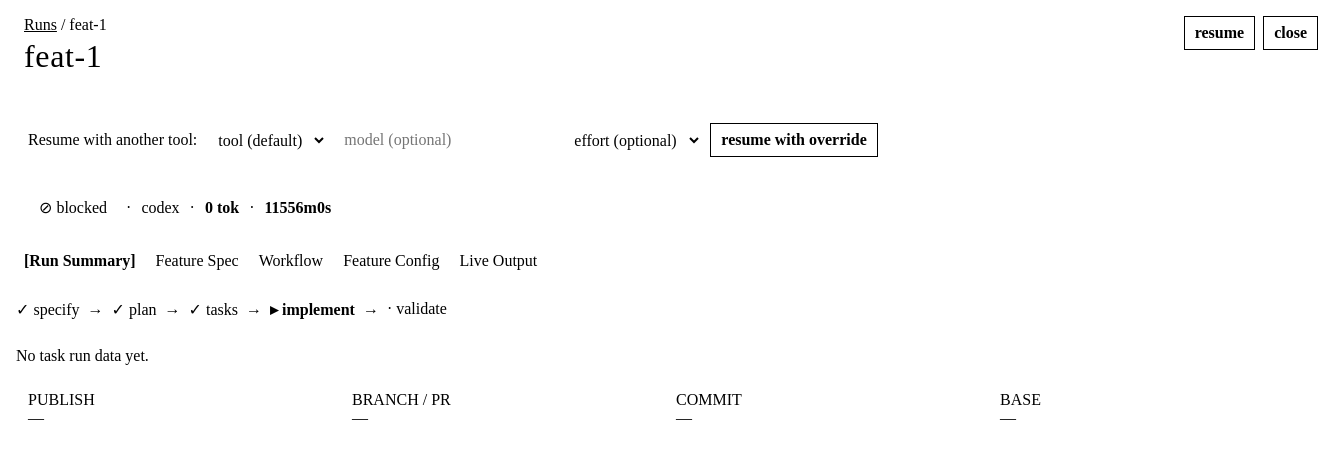
Test case: RunDetailPage error output › detects error lines from raw stderr log text even when no `level` was persisted
This screenshot has width=1335, height=459.
Step 1. Click the button "Live Output" → click(498, 261), box x1=452 y1=246 x2=545 y2=276
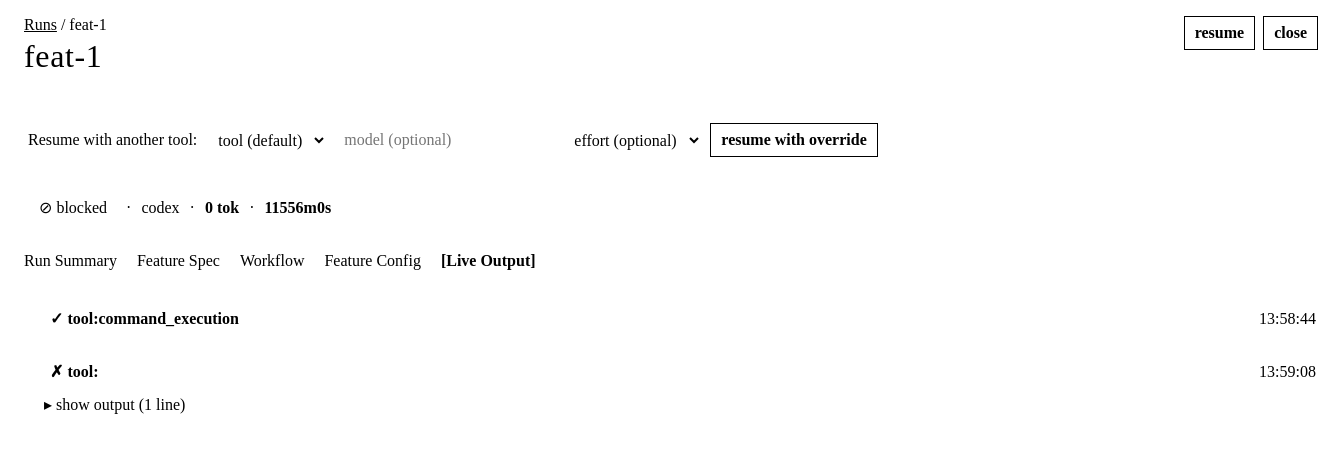
Check: the text "▸ show output (1 line)" is shown
Step 2. Click the text "▸ show output (1 line)" → click(115, 405), box x1=44 y1=396 x2=185 y2=413
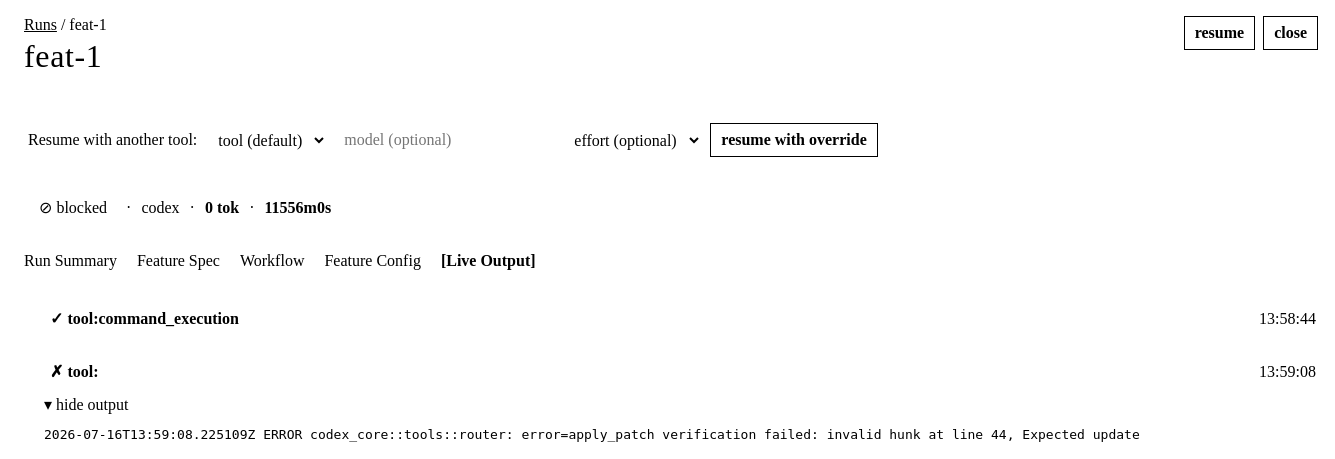
Check: the element that starts with "Runs" shows "2026-07-16T13:59:08.225109Z ERROR codex_core::tools::router: error=apply_patch verification failed: invalid hunk at line 44, Expected update", box x1=44 y1=427 x2=1140 y2=442
